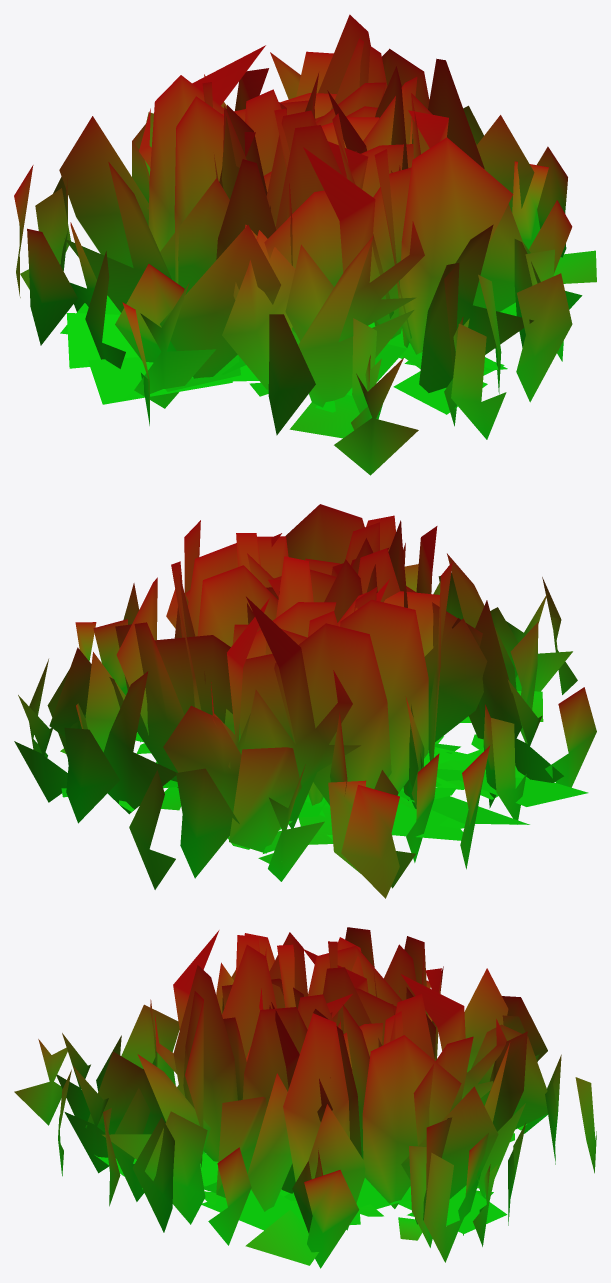
The model's file is Kikuyu Grass_LOD5_Var1_wiljearqx.fbx.
The picture shows the model from 3 angles, top to bottom: view 1: azimuth 30°, elevation 25°; view 2: azimuth 150°, elevation 25°; view 3: azimuth 270°, elevation 25°; orthographic projection. The views are drawn at different scales.
Visible parts, largest first — view 1: _6dsd_Var1_LOD5; view 2: _6dsd_Var1_LOD5; view 3: _6dsd_Var1_LOD5.
Part boxes in pixels (x1,y1,x2,y2): _6dsd_Var1_LOD5: (14, 14, 596, 475); _6dsd_Var1_LOD5: (14, 504, 596, 898); _6dsd_Var1_LOD5: (14, 927, 596, 1268).
Bounding box in the file's own units: 111 × 51.86 × 126.
